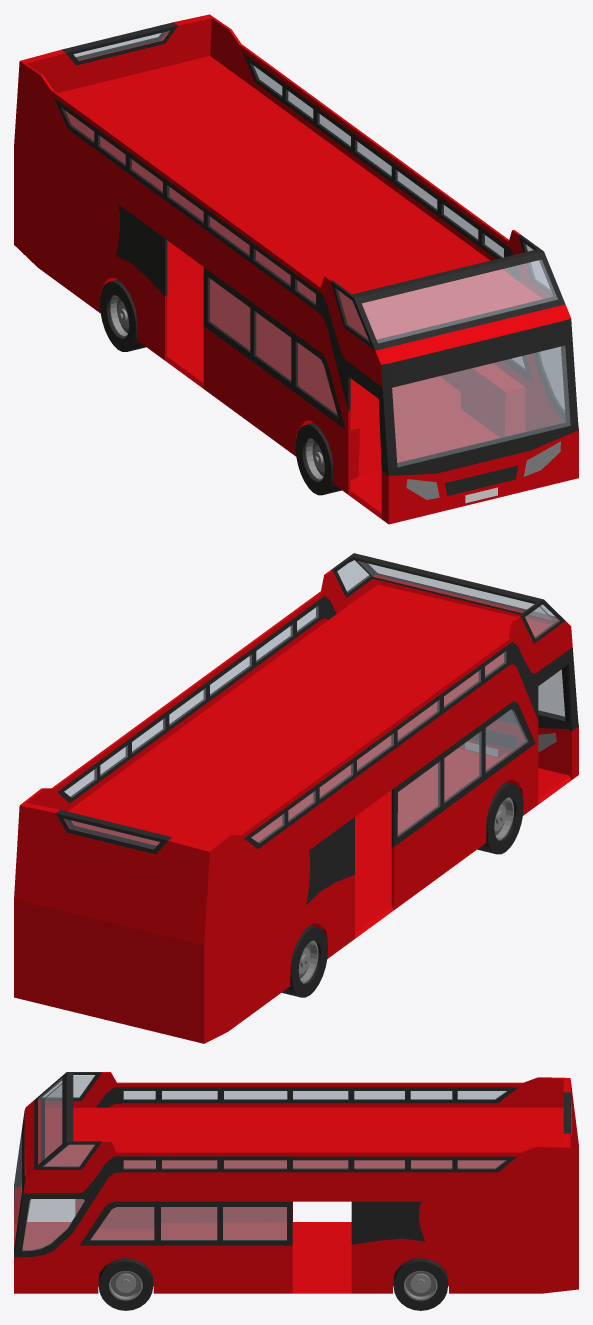
File: bus.glb
The picture shows the model from 3 angles, top to bottom: view 1: azimuth 30°, elevation 25°; view 2: azimuth 150°, elevation 25°; view 3: azimuth 270°, elevation 25°; orthographic projection. The views are drawn at different scales.
Visible parts, largest first — view 1: Cube, wheels; view 2: Cube, wheels; view 3: Cube, wheels.
Part boxes in pixels (x1,y1,x2,y2): Cube: (14, 14, 578, 524); wheels: (100, 280, 341, 495); Cube: (14, 553, 578, 1043); wheels: (282, 782, 523, 997); Cube: (14, 1072, 578, 1293); wheels: (98, 1258, 447, 1310).
Bounding box in the file's own units: 3.7 × 4.11 × 12.5.
